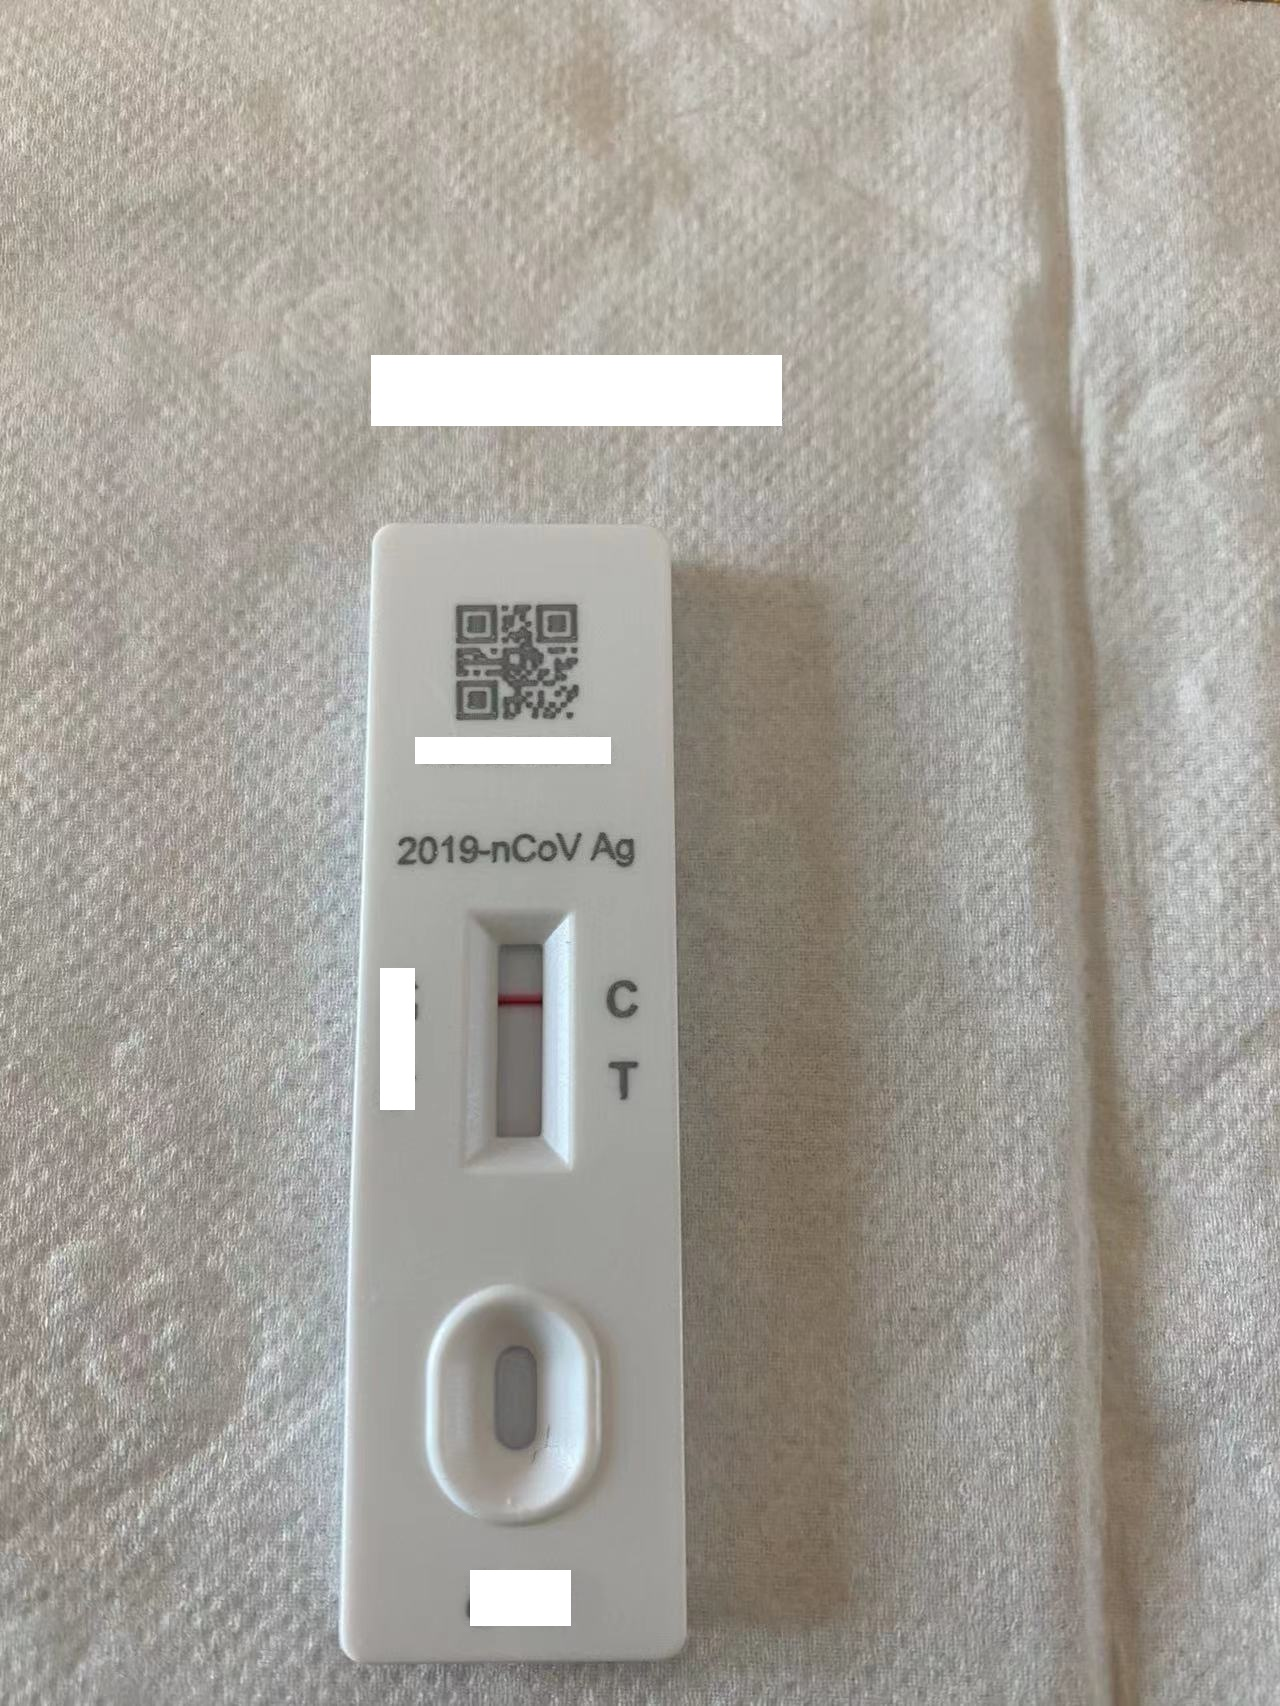negative: (467, 905, 563, 1174)
